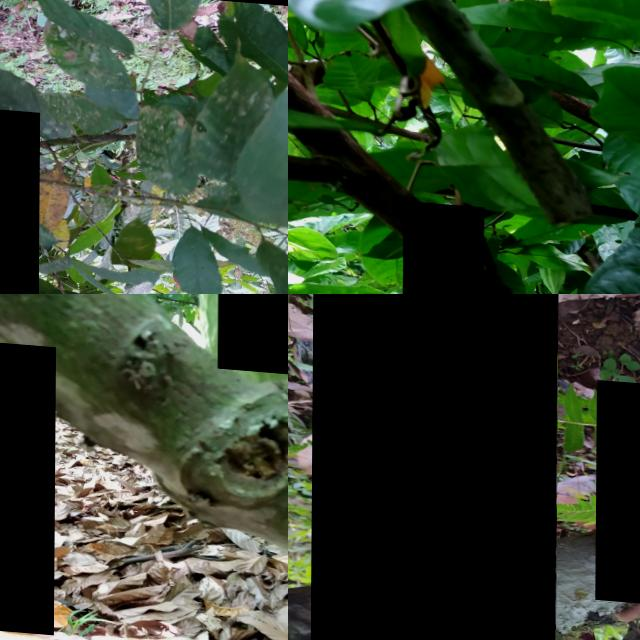Fitoftora: (0, 330, 56, 629), (403, 197, 484, 294)
Monilia: (596, 374, 640, 603)
Sana: (311, 294, 558, 640), (218, 294, 288, 368)
